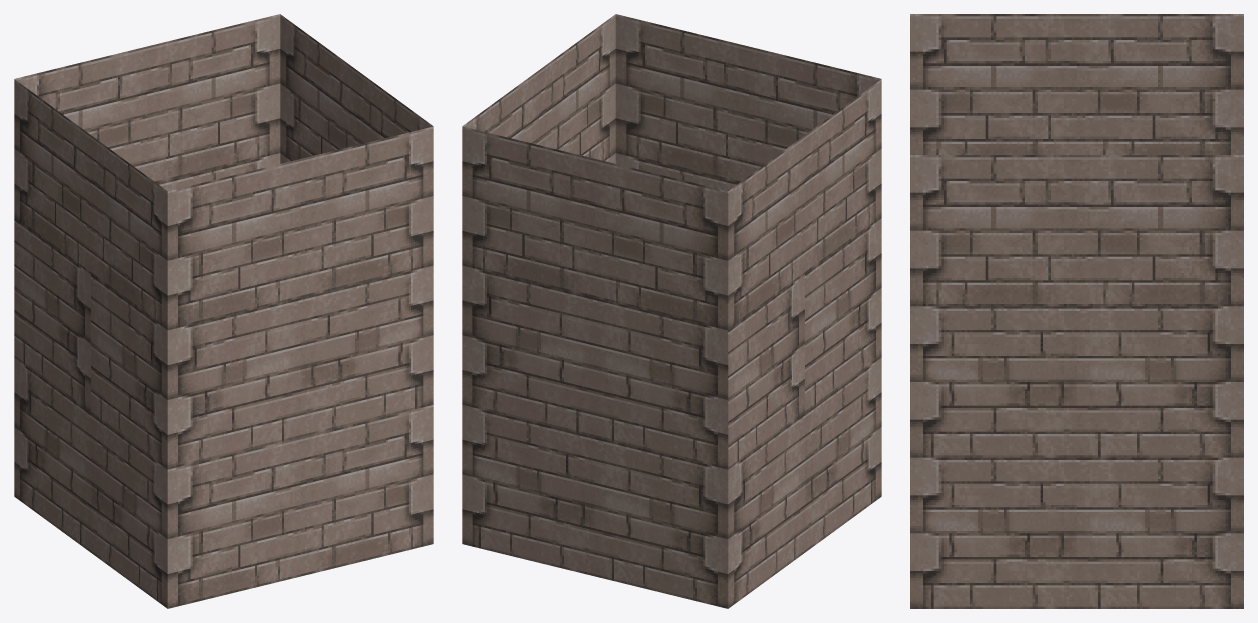
File: stone_square_half.glb
3 renders of one model, left to right at view 1: azimuth 30°, elevation 25°; view 2: azimuth 150°, elevation 25°; view 3: azimuth 270°, elevation 25°, orthographic. The views are drawn at different scales.
Parts seen in each view (by area): view 1: stone_square_half; view 2: stone_square_half; view 3: stone_square_half.
Part boxes in pixels (x1=…): stone_square_half: x1=14, y1=14, x2=433, y2=608; stone_square_half: x1=462, y1=14, x2=881, y2=608; stone_square_half: x1=910, y1=14, x2=1243, y2=608.
Size of the model in its own units: 2 by 3 by 2.
Materials: 1 (1 with a texture image).
